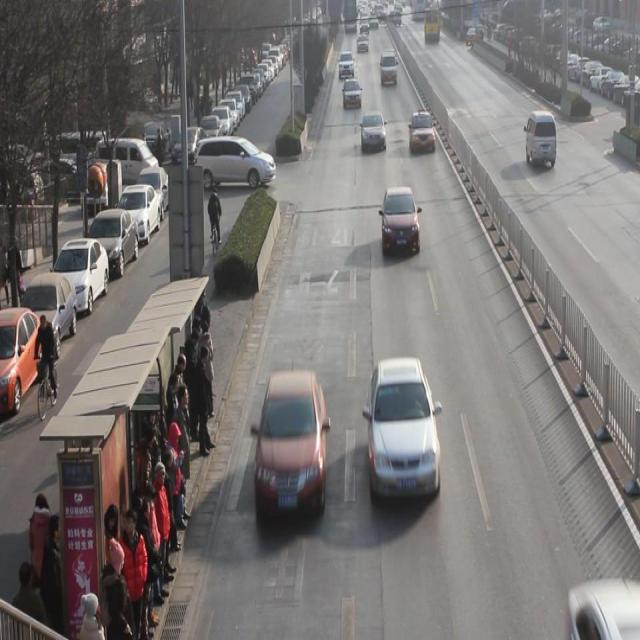car: (254, 368, 328, 523), (368, 358, 441, 502), (565, 576, 640, 640), (381, 186, 422, 256), (409, 110, 436, 155), (361, 111, 387, 153), (342, 77, 362, 111), (339, 51, 355, 78)
truck: (526, 110, 558, 170), (380, 52, 398, 85)
